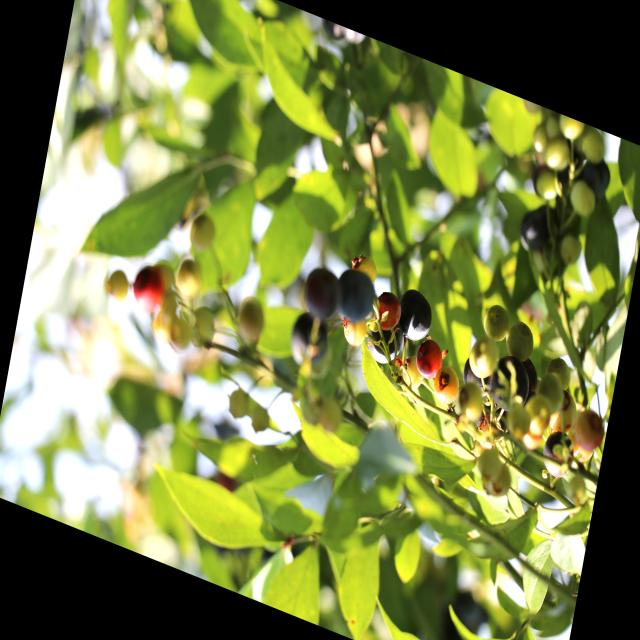blueberry: (328, 261, 381, 331), (285, 306, 335, 376), (296, 258, 344, 330), (486, 349, 533, 420), (392, 285, 440, 346), (362, 316, 405, 372), (459, 348, 496, 400), (517, 208, 553, 261)
blueberry-halfripe: (131, 256, 171, 318), (573, 406, 606, 454), (413, 337, 445, 384), (372, 288, 404, 335), (431, 363, 462, 408), (340, 312, 370, 350)
blueberry-unripe: (548, 386, 580, 438), (236, 297, 267, 347), (173, 257, 205, 303), (480, 301, 512, 346), (504, 319, 535, 365), (187, 211, 217, 257), (542, 353, 574, 392), (458, 383, 484, 423), (106, 268, 130, 304)
